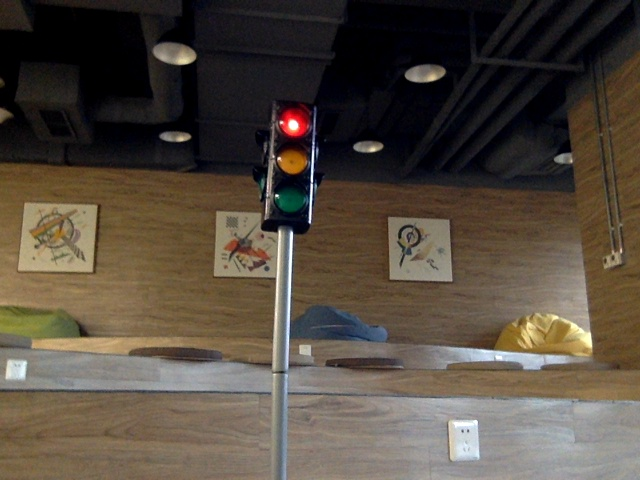red: (270, 105, 309, 221)
